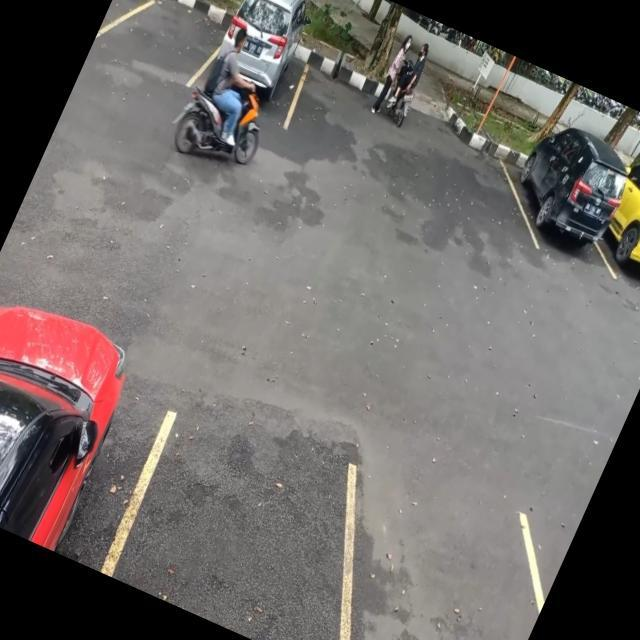empty: (102, 0, 234, 96)
occupied: (493, 135, 633, 275), (196, 0, 333, 128), (592, 164, 640, 308)
